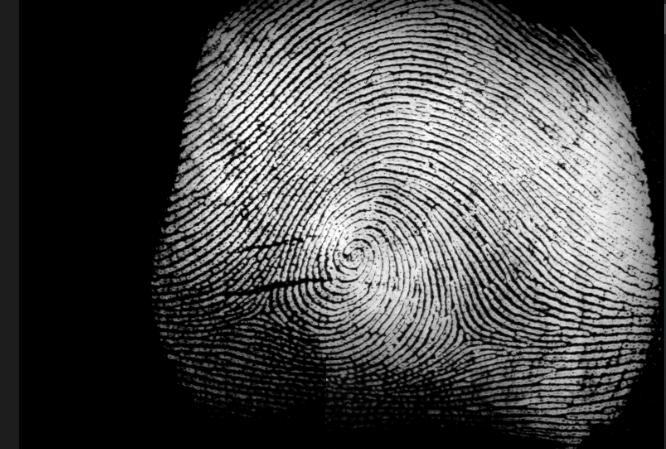deltas: (444, 316, 495, 359), (236, 291, 287, 326)
nucleo: (326, 232, 378, 272)
